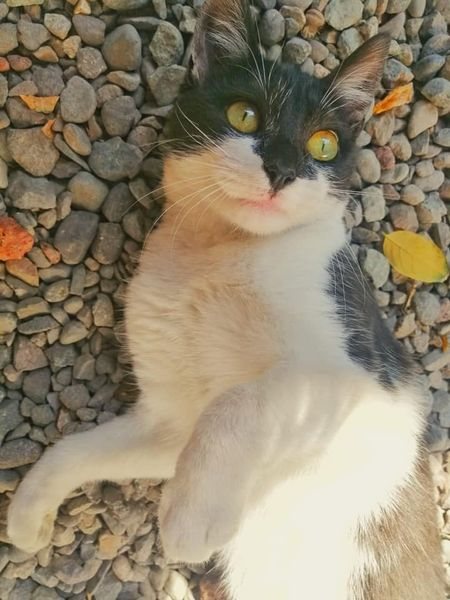cat: (6, 5, 432, 588)
